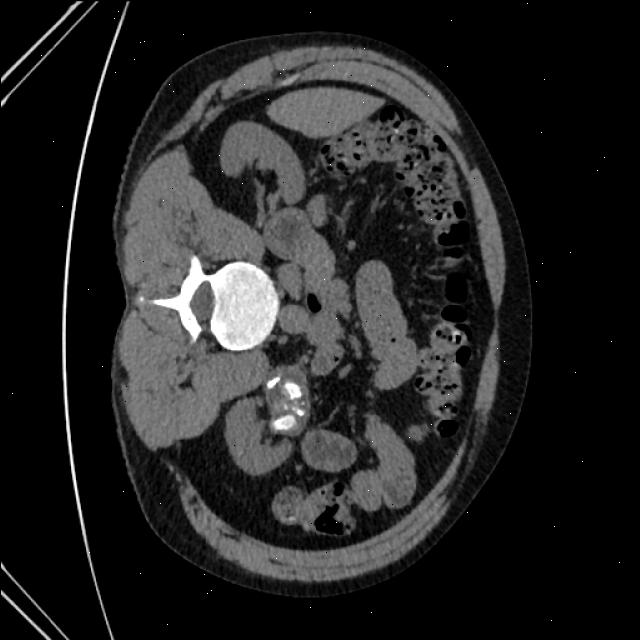kidneystone: (281, 373, 308, 409), (271, 414, 296, 434), (266, 376, 278, 389), (293, 412, 304, 416)
